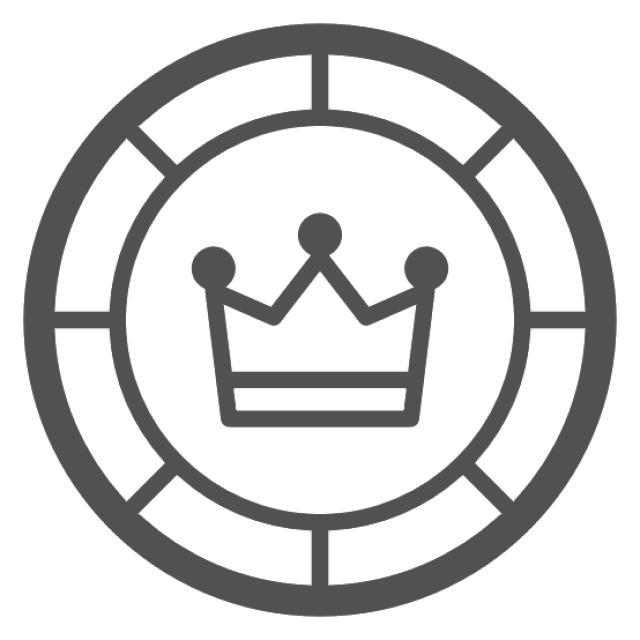coin: (15, 14, 621, 631)
